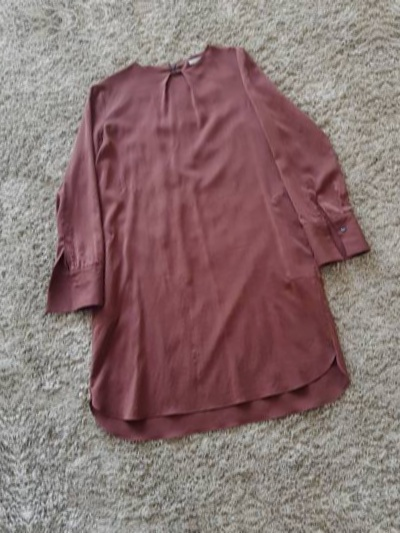Dress: (0, 0, 400, 472), (0, 0, 334, 10), (0, 66, 3, 533)
